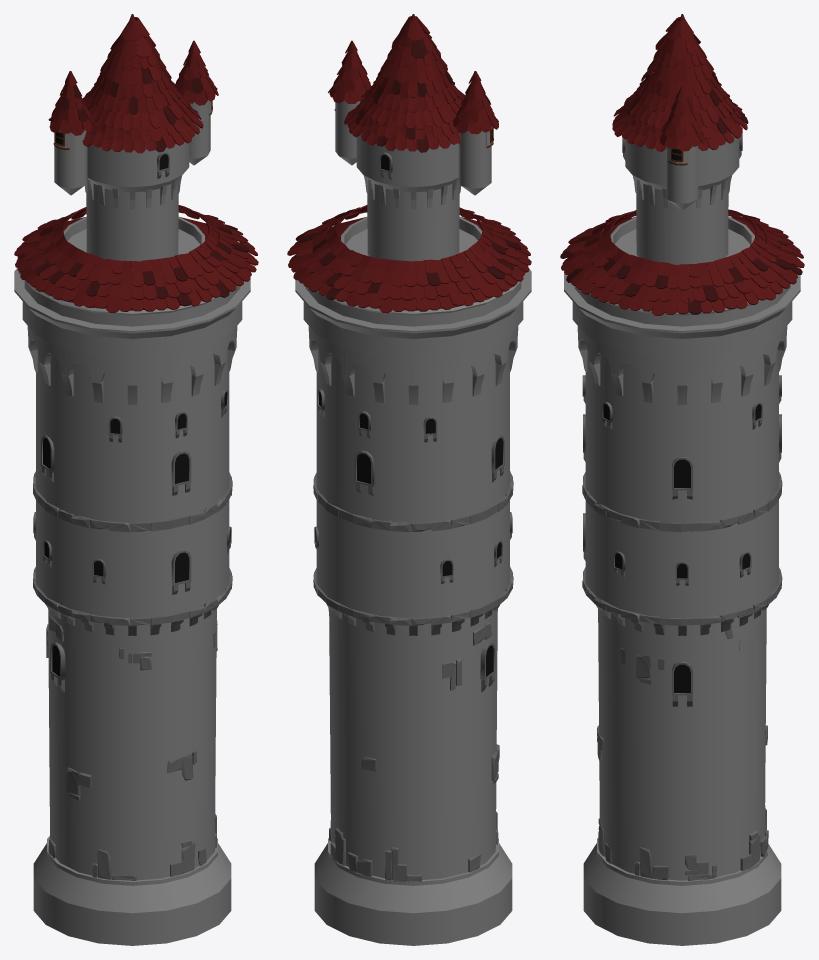
Rendered from SM_tower_tall.fbx.
3 views of the same model, side by side, from view 1: azimuth 30°, elevation 25°; view 2: azimuth 150°, elevation 25°; view 3: azimuth 270°, elevation 25° (orthographic).
Visible parts, largest first — view 1: Cylinder003; view 2: Cylinder003; view 3: Cylinder003.
Boxes of the visible parts, bbox=[...] form: Cylinder003: bbox=[14, 14, 258, 945]; Cylinder003: bbox=[287, 14, 531, 945]; Cylinder003: bbox=[560, 14, 804, 945].
Bounding box in the file's own units: 383 × 377 × 1514.
